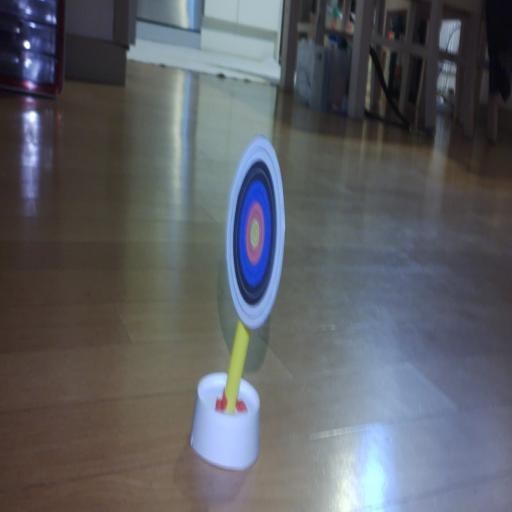target: (227, 139, 284, 329)
